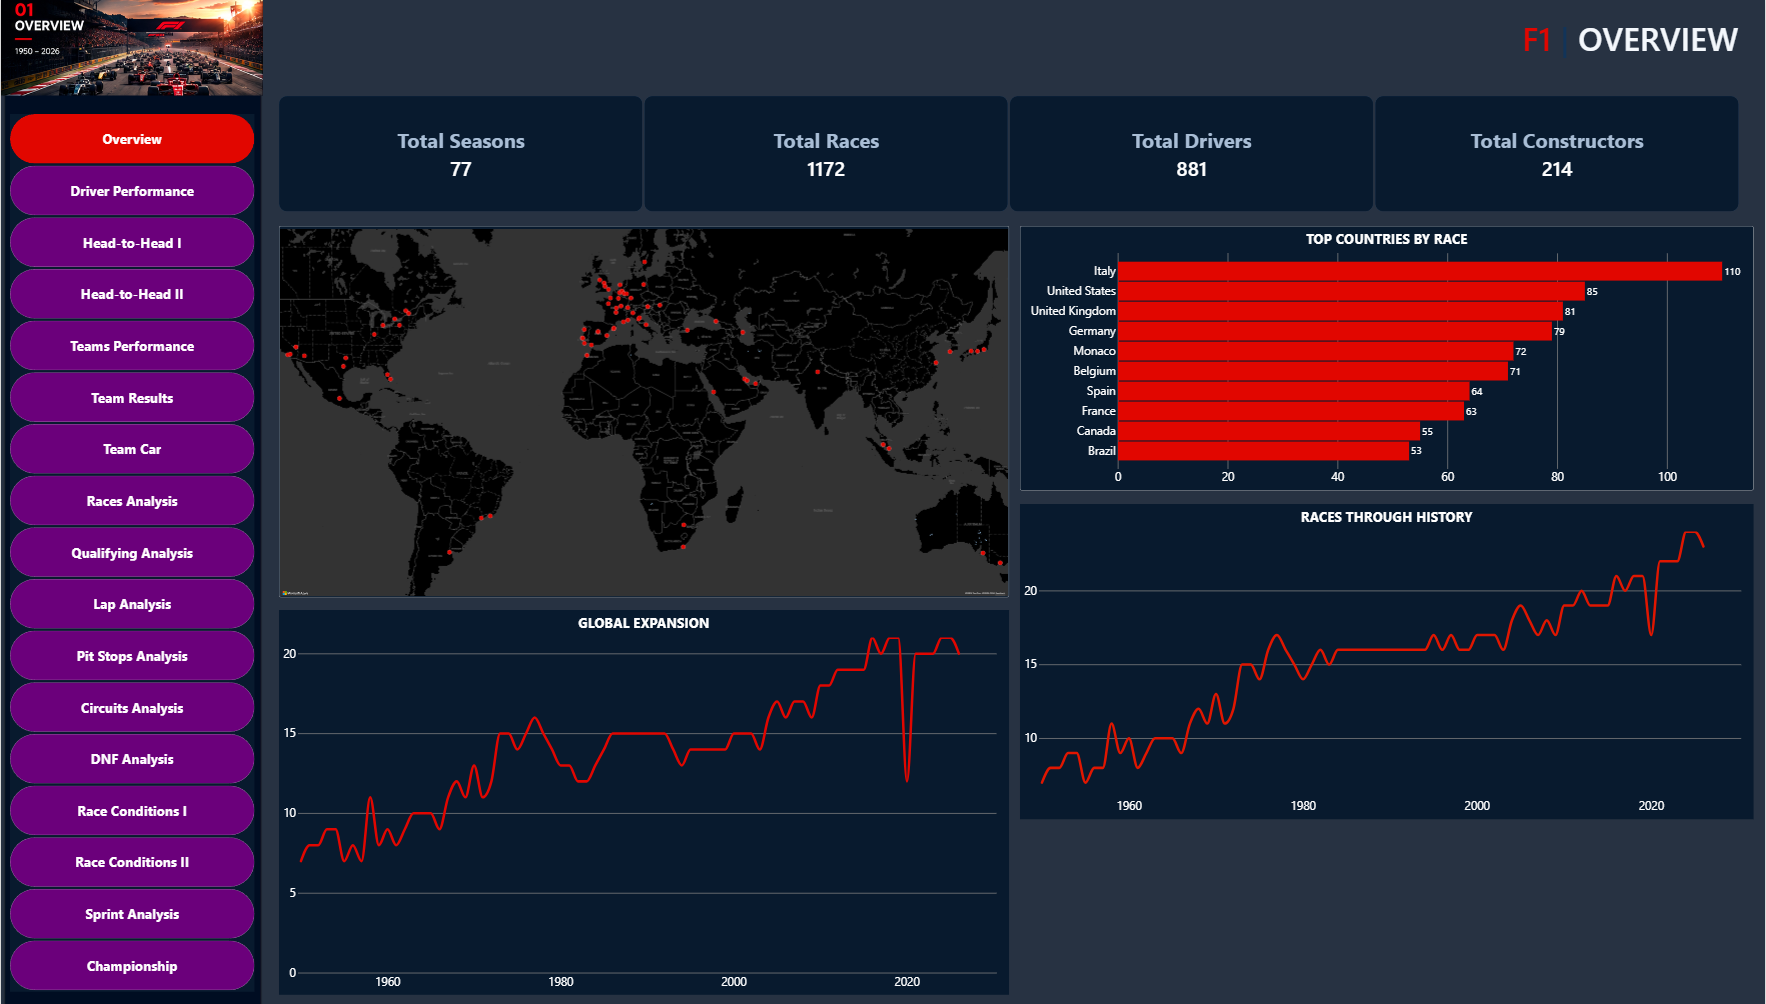

The page's visual inventory and layout, read from the dashboard file:
{"tool":"powerbi","page":{"name":"Overview","canvas":[7000,4000],"ordinal":1},"visuals":[{"type":"textbox","box":[5798,64,1097.3,232.8],"z":0},{"type":"lineChart","title":"RACES THROUGH HISTORY","fields":{"Category":["races.year"],"Y":["races.Races Per Season"]},"box":[4044.3,2000,2911.3,1251.2],"z":1000},{"type":"azureMap","fields":{"X":["circuits.lng"],"Y":["circuits.lat"]},"box":[1103.4,896.6,2896.6,1472.9],"z":2000},{"type":"barChart","title":"TOP COUNTRIES BY RACE","fields":{"Category":["circuits.country"],"Y":["circuits.Races Hosted"]},"box":[4044.3,896.6,2911.3,1049.3],"z":3000},{"type":"lineChart","title":"GLOBAL EXPANSION","fields":{"Category":["races.year"],"Y":["circuits.Countries Hosting"]},"box":[1103.4,2418.7,2896.6,1527.1],"z":4000},{"type":"cardVisual","fields":{"Data":["seasons.Total Seasons","races.Total Races","drivers.Total Drivers","constructors.Total Constructors"]},"box":[1103.4,379.3,5793.1,458.1],"z":5000},{"type":"shape","box":[9.9,0,1029.6,4502.5],"z":6000},{"type":"image","box":[0,0,1039.4,379.3],"z":7000},{"type":"pageNavigator","box":[34.5,453.2,970.4,3482.8],"z":8000}]}

Visuals, with their boxes on the page's 7000x4000 design canvas (x1, y1, x2, y2). These are canvas units, not pixel positions in the 1766x1004 screenshot, which may show the page scaled, cropped or inside an application window:
textbox: left=5798, top=64, right=6895, bottom=297
"RACES THROUGH HISTORY" lineChart: left=4044, top=2000, right=6956, bottom=3251
azureMap - circuits.lng x circuits.lat: left=1103, top=897, right=4000, bottom=2370
"TOP COUNTRIES BY RACE" barChart: left=4044, top=897, right=6956, bottom=1946
"GLOBAL EXPANSION" lineChart: left=1103, top=2419, right=4000, bottom=3946
cardVisual - seasons.Total Seasons x races.Total Races: left=1103, top=379, right=6896, bottom=837
shape: left=10, top=0, right=1040, bottom=4502
image: left=0, top=0, right=1039, bottom=379
pageNavigator: left=34, top=453, right=1005, bottom=3936
